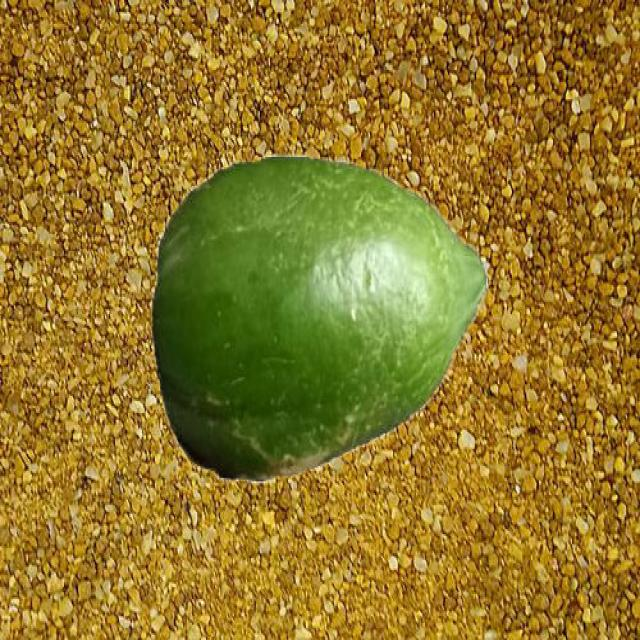Pepaya unrippen: (152, 157, 493, 478)
